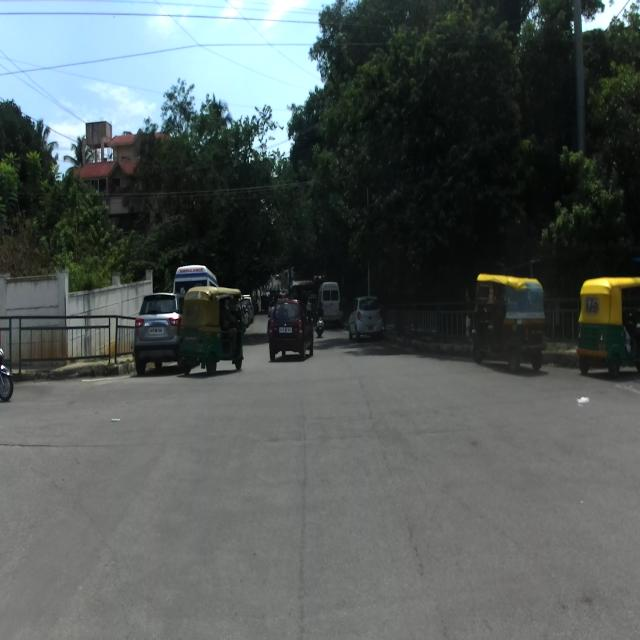auto ahead at: (465, 269, 544, 376), (575, 273, 640, 384), (185, 281, 249, 377)
car ahead at: (133, 289, 180, 366), (272, 293, 314, 364)
